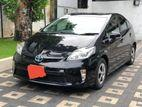car: (10, 9, 139, 95)
